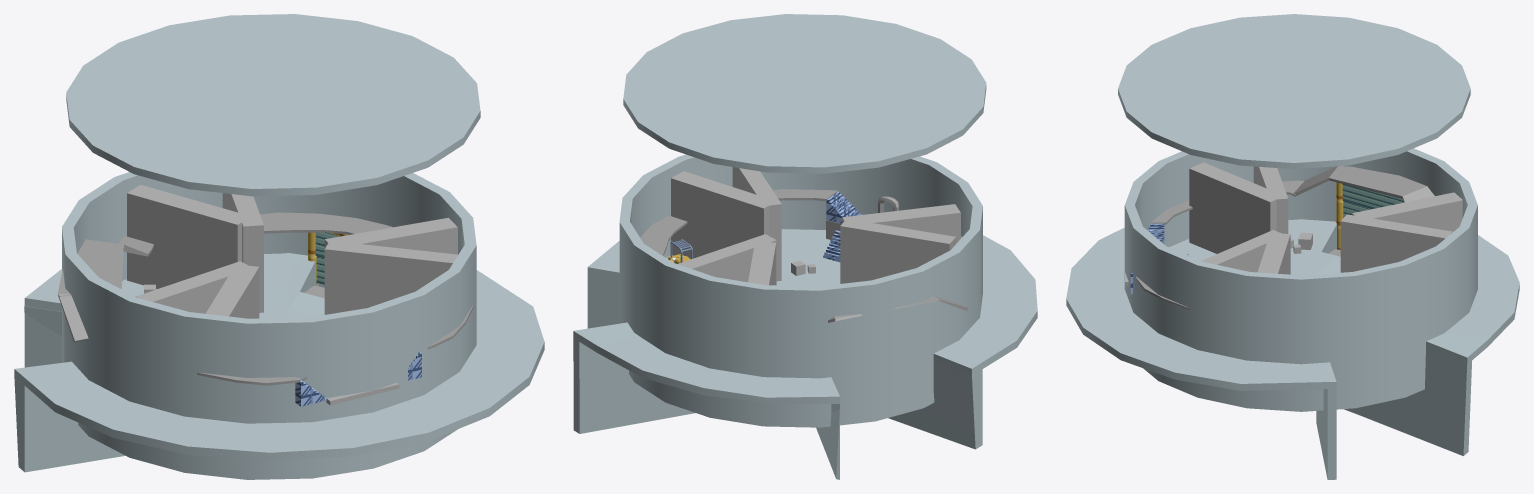
Rendered from LoadingDockLevel.fbx.
3 renders of one model, left to right at view 1: azimuth 30°, elevation 25°; view 2: azimuth 150°, elevation 25°; view 3: azimuth 270°, elevation 25°, orthographic. The views are drawn at different scales.
Visible parts, largest first — view 1: SurroundingWall, Ceiling, Floors, Wall3, Wall6, pCube31, Wall5, Wall2, Wall4, Wall1, pCube28; view 2: SurroundingWall, Ceiling, Floors, Wall5, Wall2, Wall1, Wall4, Wall6, pCube31, Wall3, Cube__1_1, pCube28; view 3: SurroundingWall, Ceiling, Floors, Wall1, Wall4, pCube31, Wall3, Wall6, Wall2, Wall5, LoadingDoor__6__1, pCube28.
Part boxes in pixels (x1,y1,x2,y2): SurroundingWall: (62,172,476,479); Ceiling: (66,14,480,196); Floors: (14,253,544,472); Wall3: (127,185,249,288); Wall6: (324,240,457,314); pCube31: (57,212,392,342); Wall5: (324,217,457,254); Wall2: (136,261,252,313); Wall4: (222,193,263,312); Wall1: (205,265,259,318); pCube28: (197,305,473,385); SurroundingWall: (619,154,982,427); Ceiling: (623,14,986,173); Floors: (573,229,1037,479); Wall5: (671,171,776,258); Wall2: (840,221,956,283); Wall1: (842,204,960,243); Wall4: (678,234,776,284); Wall6: (732,167,781,281); pCube31: (640,215,968,322); Wall3: (748,242,776,285); Cube__1_1: (826,191,862,223); pCube28: (773,189,961,238); SurroundingWall: (1124,148,1477,411); Ceiling: (1118,14,1470,169); Floors: (1066,219,1519,479); Wall1: (1189,162,1276,253); Wall4: (1340,214,1452,272); pCube31: (1282,166,1434,202); Wall3: (1352,192,1462,231); Wall6: (1201,230,1281,272); Wall2: (1253,166,1288,233); Wall5: (1258,233,1290,274); LoadingDoor__6__1: (1342,184,1382,208); pCube28: (1135,190,1295,309).
Bounding box in the file's own units: 5487 × 4053 × 5552.
